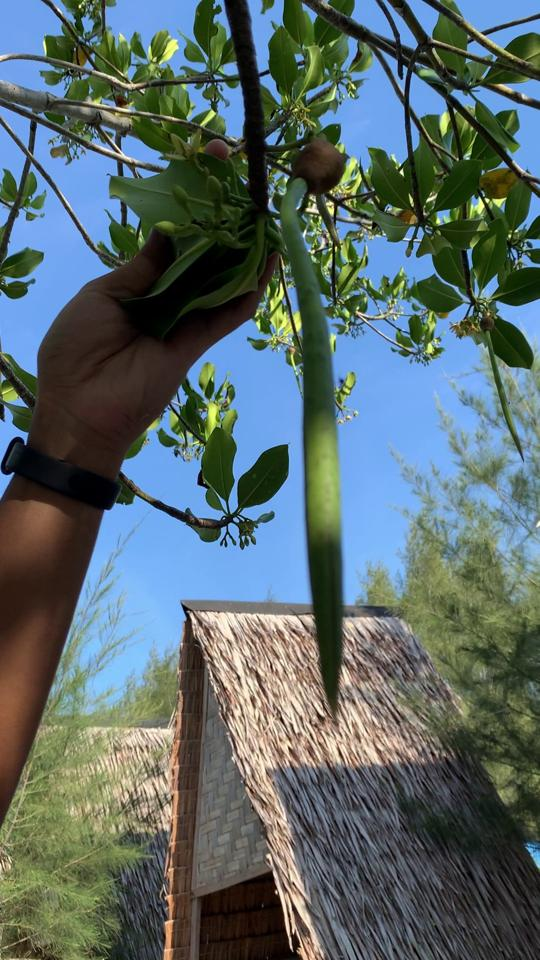mentah: (259, 115, 380, 732)
